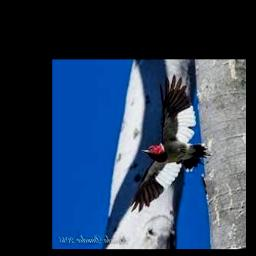Woodpecker: (130, 75, 213, 213)
